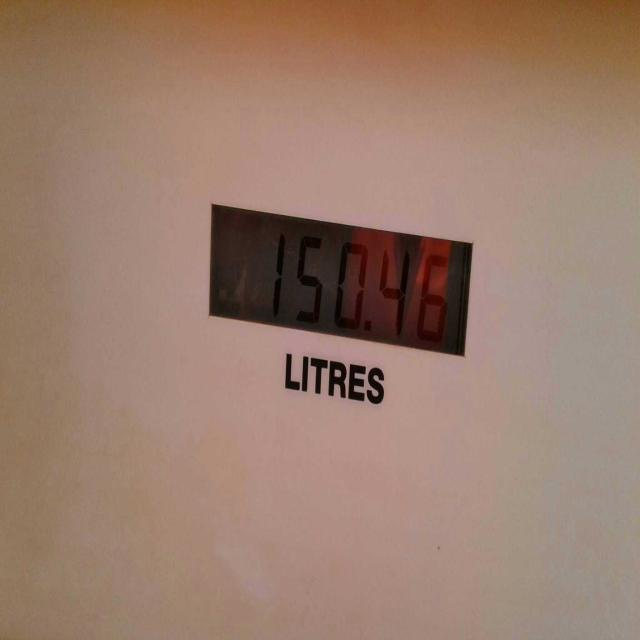.: (359, 307, 377, 344)
0: (322, 232, 374, 350)
1: (258, 221, 293, 334)
4: (377, 232, 418, 350)
5: (286, 220, 329, 338)
6: (413, 238, 455, 347)
